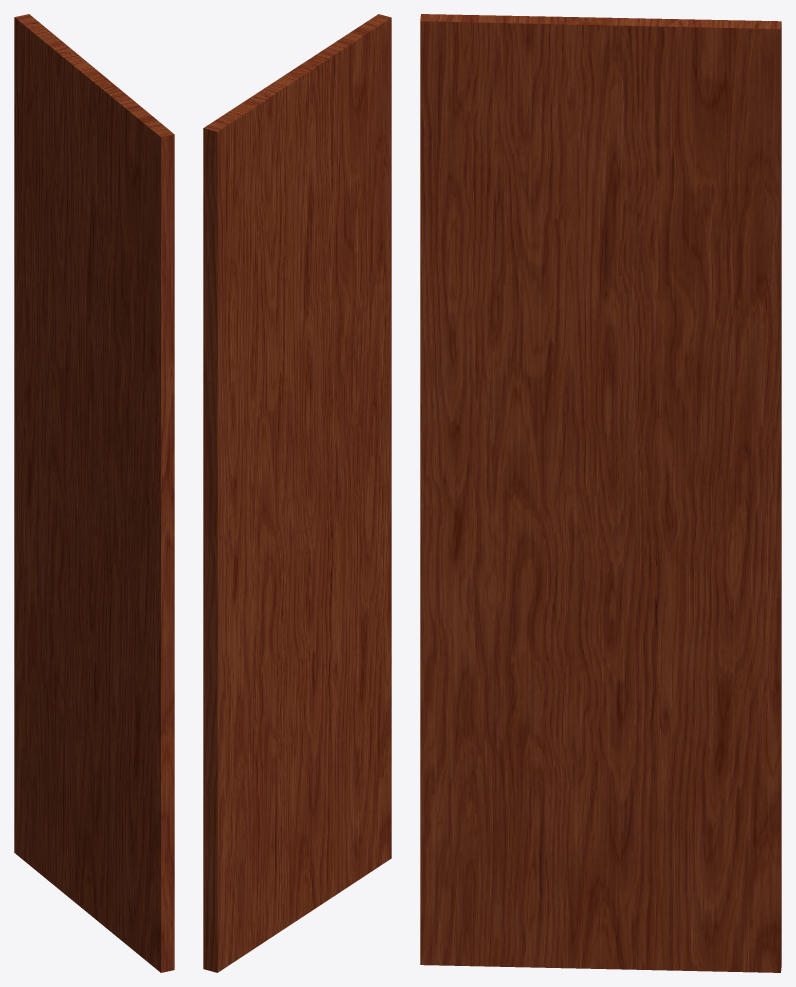
Rendered from Door01.fbx.
3 views of the same model, side by side, from view 1: azimuth 30°, elevation 25°; view 2: azimuth 150°, elevation 25°; view 3: azimuth 270°, elevation 25° (orthographic). The views are drawn at different scales.
Visible parts, largest first — view 1: Door01; view 2: Door01; view 3: Door01.
Part boxes in pixels (x1,y1,x2,y2): Door01: (14,14,174,972); Door01: (203,14,391,972); Door01: (420,14,781,972).
Size of the model in its own units: 0.0739 by 2.14 by 0.7446.
